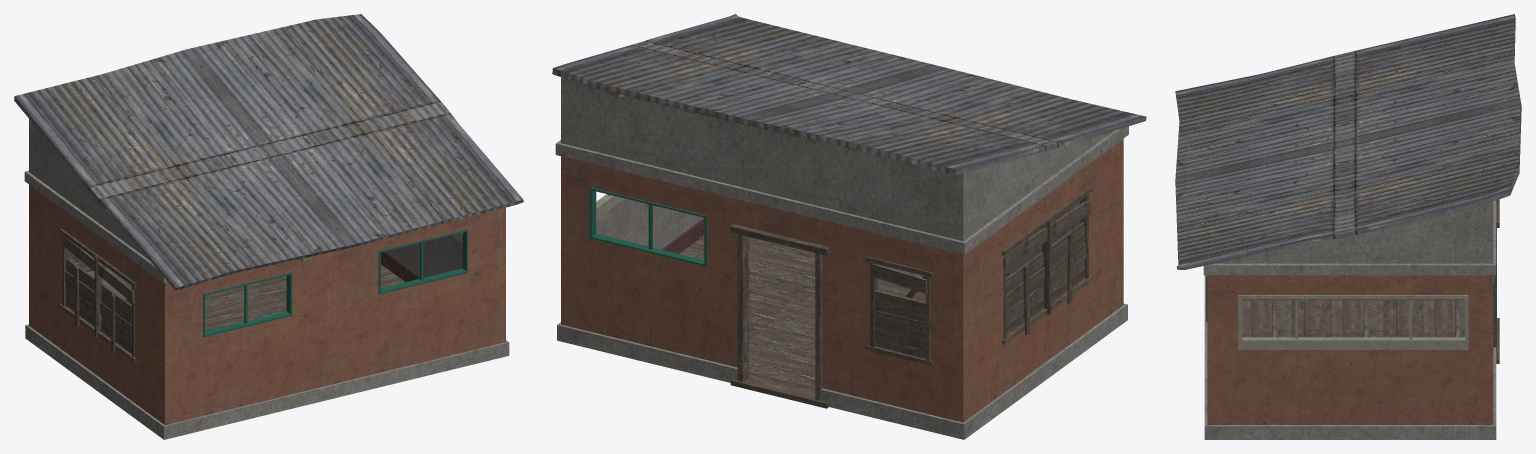
File: BuildingSmall01_2048.glb
The picture shows the model from 3 angles, left to right: view 1: azimuth 30°, elevation 25°; view 2: azimuth 150°, elevation 25°; view 3: azimuth 270°, elevation 25°; orthographic projection. The views are drawn at different scales.
Parts seen in each view (by area): view 1: xiutz_building_small_01; view 2: xiutz_building_small_01; view 3: xiutz_building_small_01.
Part boxes in pixels (x1,y1,x2,y2): xiutz_building_small_01: [14, 14, 523, 439]; xiutz_building_small_01: [552, 14, 1146, 439]; xiutz_building_small_01: [1175, 14, 1521, 439].
Bounding box in the file's own units: 8.6 × 5.57 × 6.98.
1 material, 1 textured.
